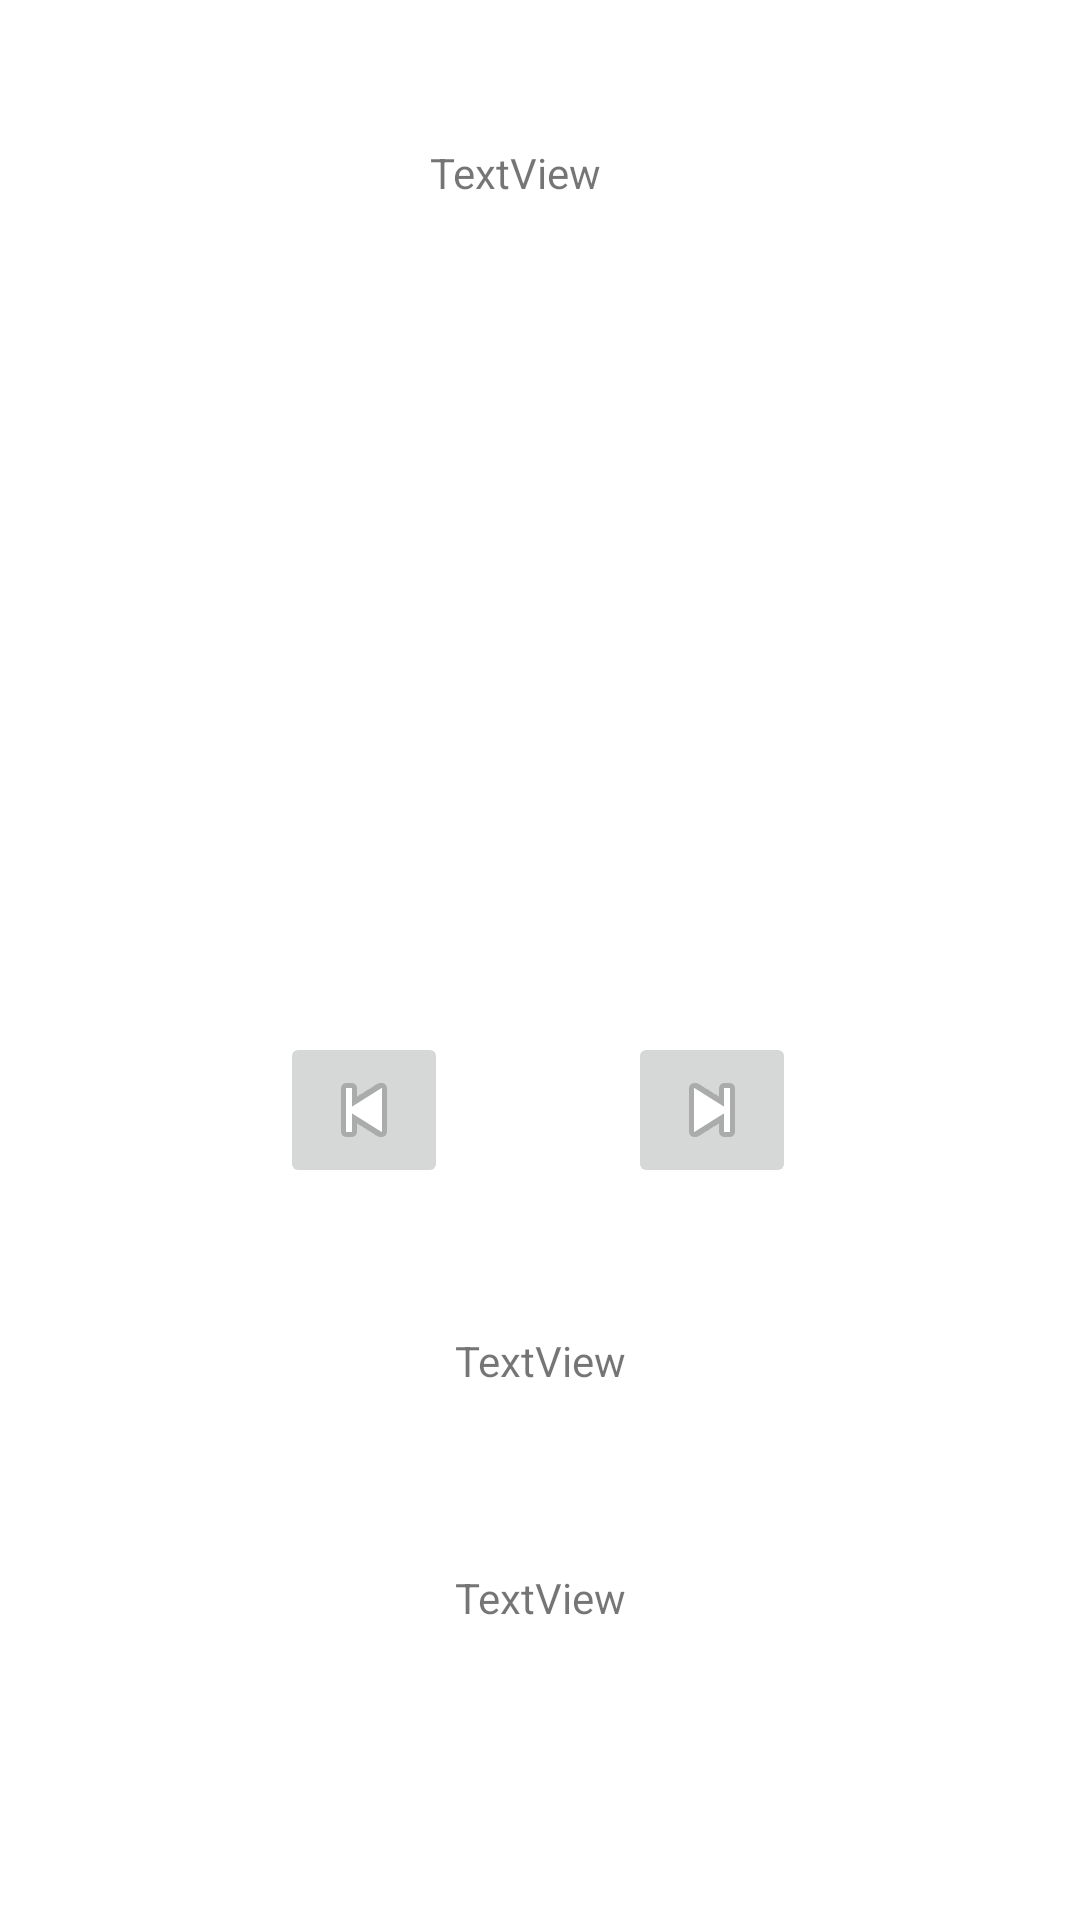

Icon bounding boxes for this 1080w x 1920h phone screenshot, format (x1, y1, x2, y2):
next: (640, 1050, 784, 1170)
previous: (292, 1050, 436, 1170)
